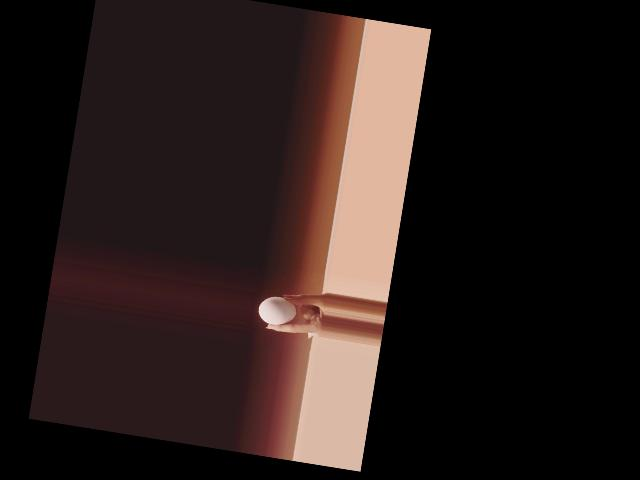egg: (256, 293, 298, 328)
